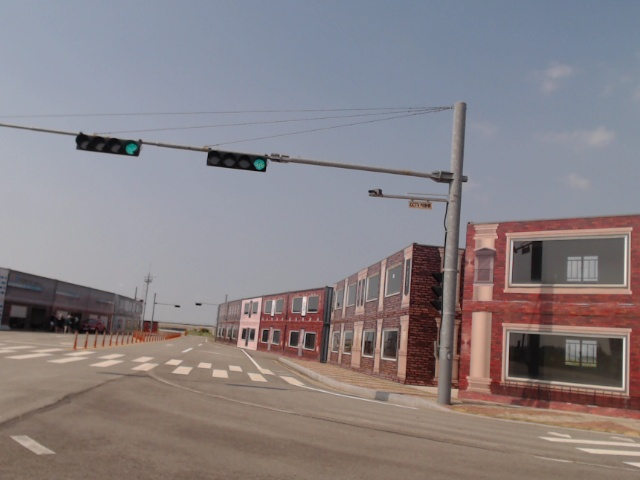straight_green_4: (76, 132, 139, 155), (208, 151, 267, 174)
